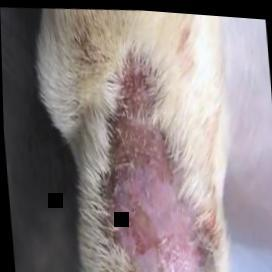skin_lesions: (87, 61, 220, 272)
